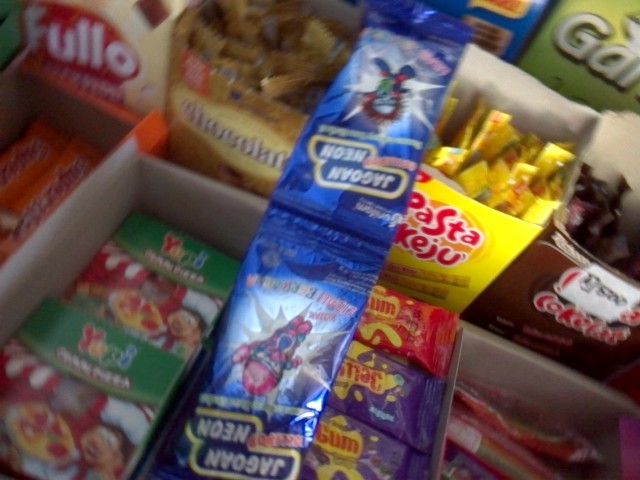jagoan neon: (147, 216, 384, 479), (271, 4, 471, 256)
